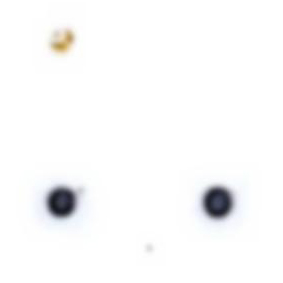cancer: (22, 165, 98, 239), (182, 170, 259, 237)
normal: (41, 16, 97, 62)
